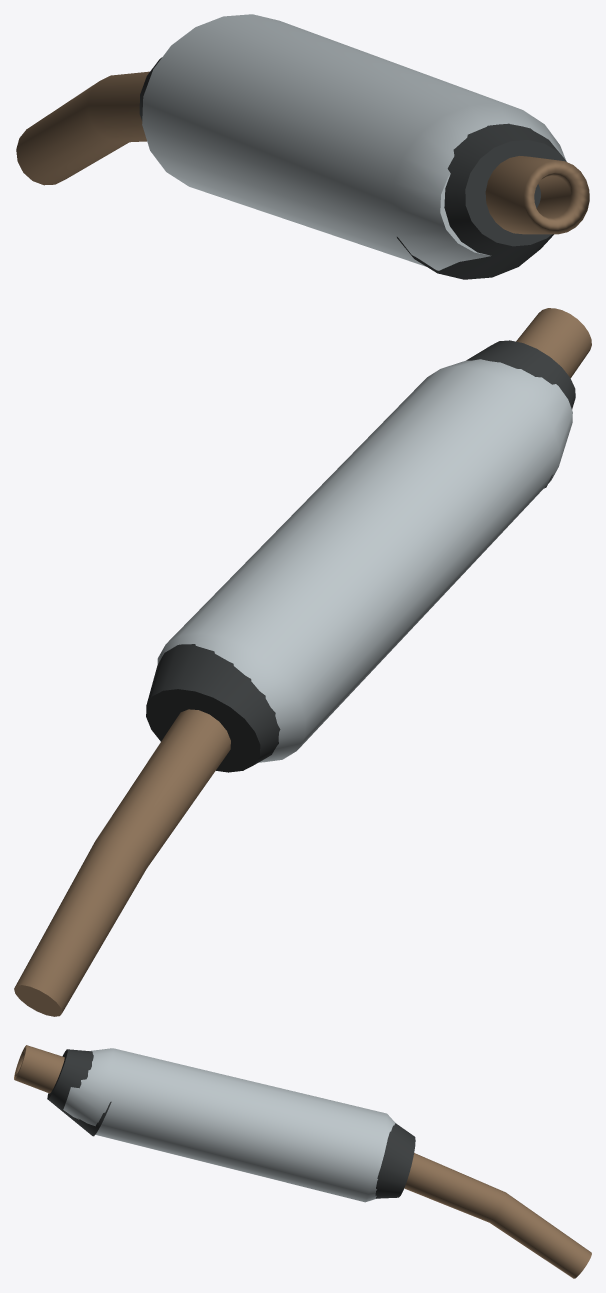
The model's file is SB50-silencer-stock.glb.
3 views of the same model, one above another, from view 1: azimuth 30°, elevation 25°; view 2: azimuth 150°, elevation 25°; view 3: azimuth 270°, elevation 25° (orthographic). The views are drawn at different scales.
Parts seen in each view (by area): view 1: SB50-silencer-stock; view 2: SB50-silencer-stock; view 3: SB50-silencer-stock.
Boxes of the visible parts, x1,y1,x2,y2 form: SB50-silencer-stock: [16, 14, 589, 279]; SB50-silencer-stock: [14, 308, 591, 1016]; SB50-silencer-stock: [14, 1045, 591, 1278].
Bounding box in the file's own units: 0.0879 × 0.1813 × 0.4359.
